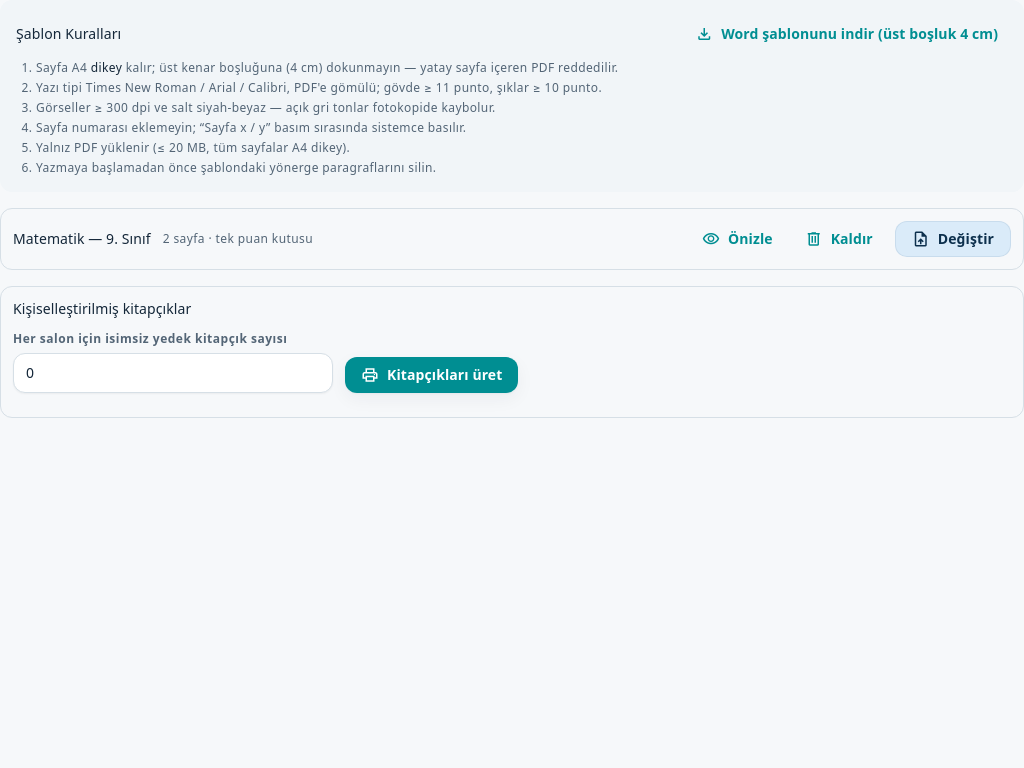
Test: SorularPaneli › yüklü soru PDF'ini 'Kaldır' onaydan geçer; onaylanınca dosyanın durduğu satırdan silinir
Click the button "Kaldır" at x=839, y=239, box [795,221,883,257]
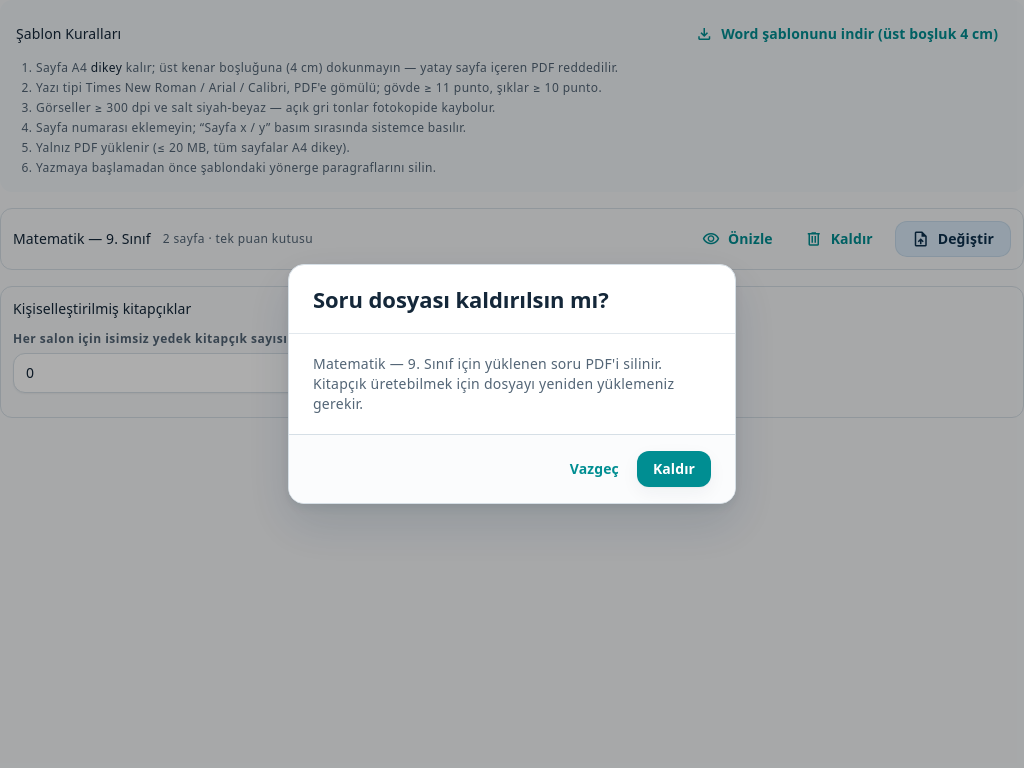
Expected: the text "Matematik — 9. Sınıf için yüklenen soru PDF'i silinir" is shown, [313,354,674,413]
Click the button "Kaldır" at x=674, y=469, box [637,451,711,487]
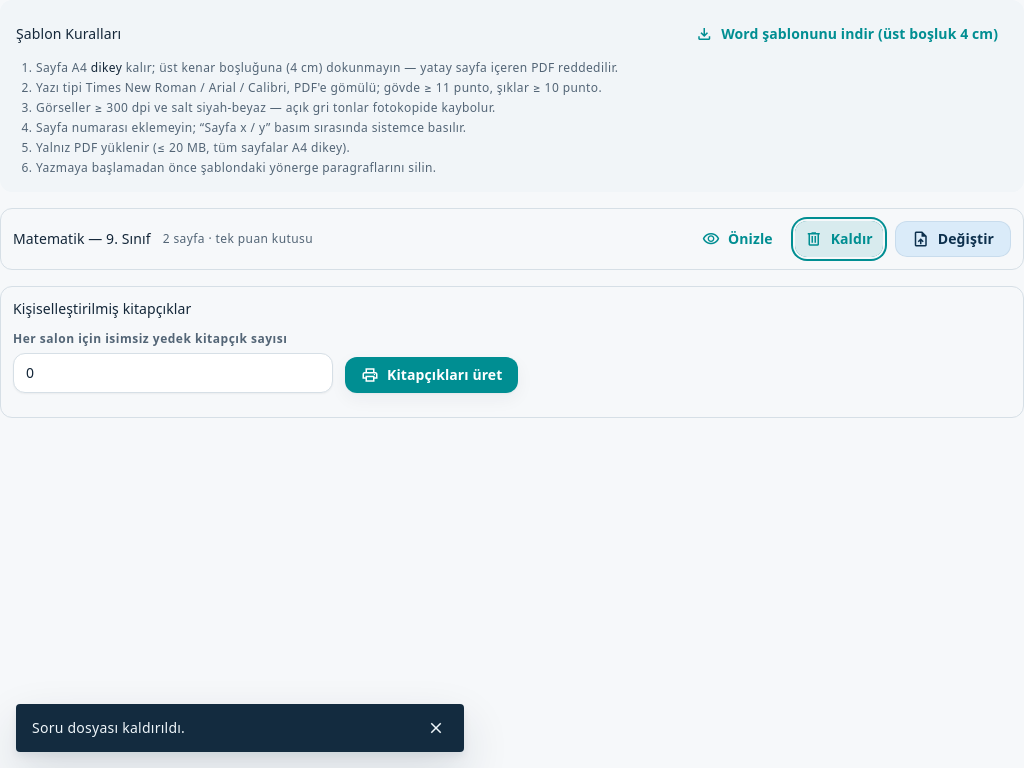
Expected: the text "Soru dosyası kaldırıldı." is shown, [32,718,185,737]
